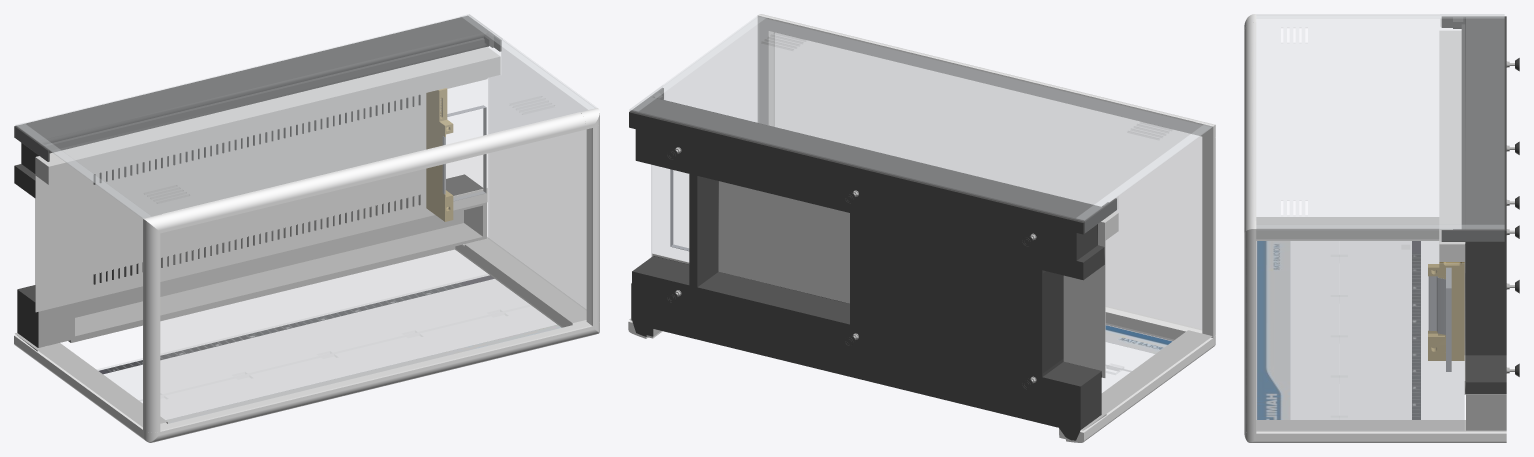
Rendered from star_base_with_top_panel.glb.
3 views of the same model, side by side, from view 1: azimuth 30°, elevation 25°; view 2: azimuth 150°, elevation 25°; view 3: azimuth 270°, elevation 25° (orthographic). The views are drawn at different scales.
Visible parts, largest first — view 1: star_base; view 2: star_base; view 3: star_base.
Part boxes in pixels (x1,y1,x2,y2): star_base: (14, 14, 599, 442); star_base: (628, 14, 1215, 442); star_base: (1244, 14, 1519, 442).
Size of the model in its own units: 1.67 by 0.7926 by 0.903.
Materials: 14 (2 with a texture image).
